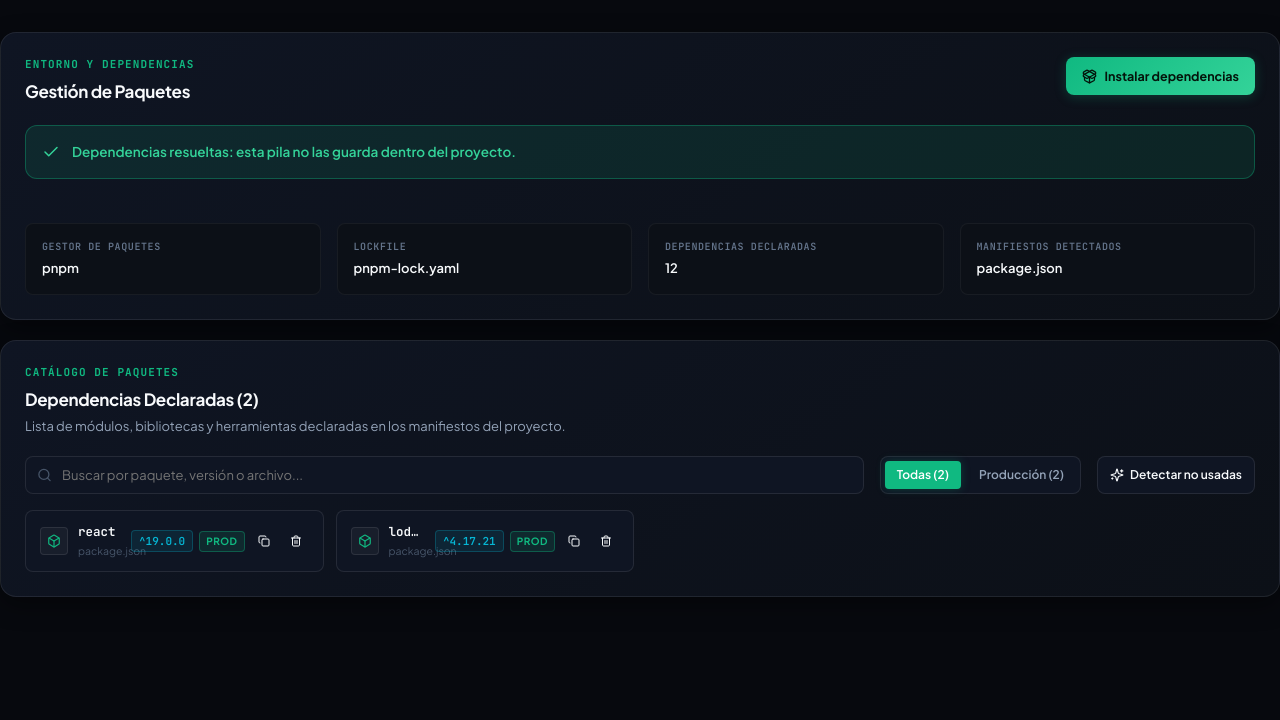
Scenario: DependenciesTab: detección y eliminación de dependencias huérfanas › detecta dependencias sin uso al pulsar el botón de auditoría
Click the button "Detectar no usadas" at (1176, 475), box [1097,456,1255,494]
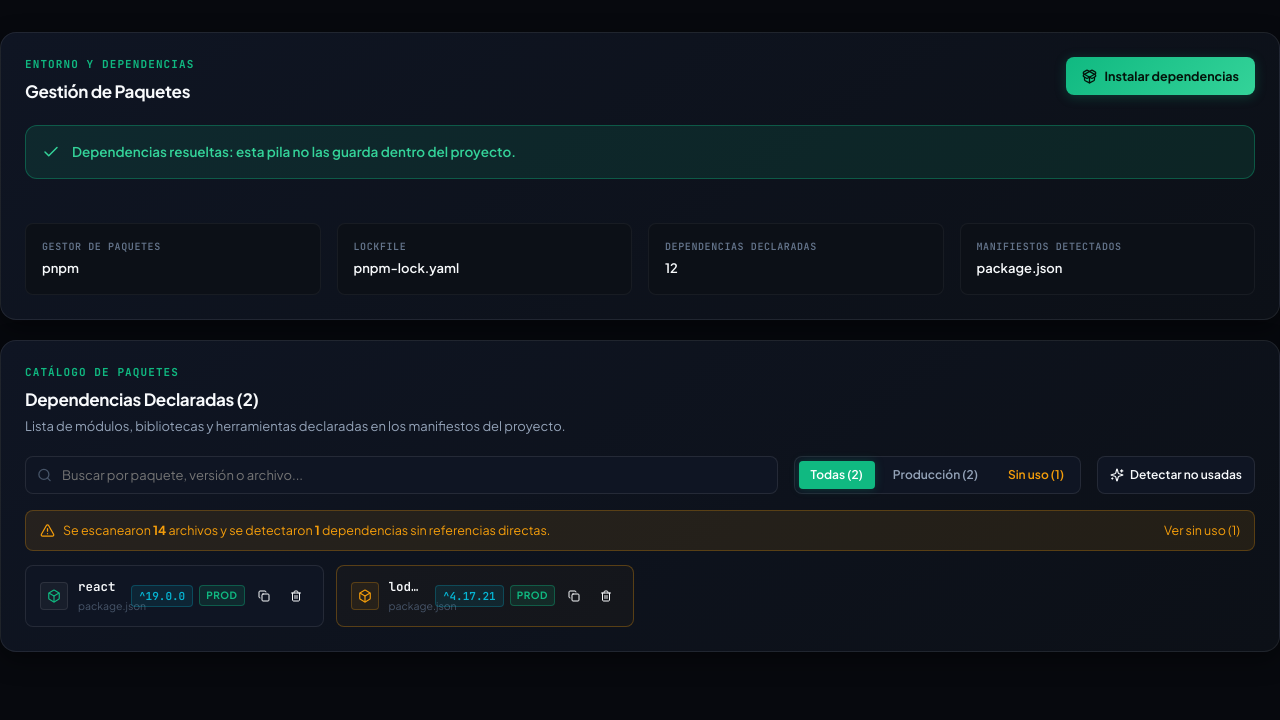
Result: the text "dependencias sin referencias directas" is shown at [320,522,550,538]
Result: the button "Sin uso (1)" is shown
Filter by unused
Click the button "Sin uso (1)" at (1036, 475), box [996,461,1076,489]
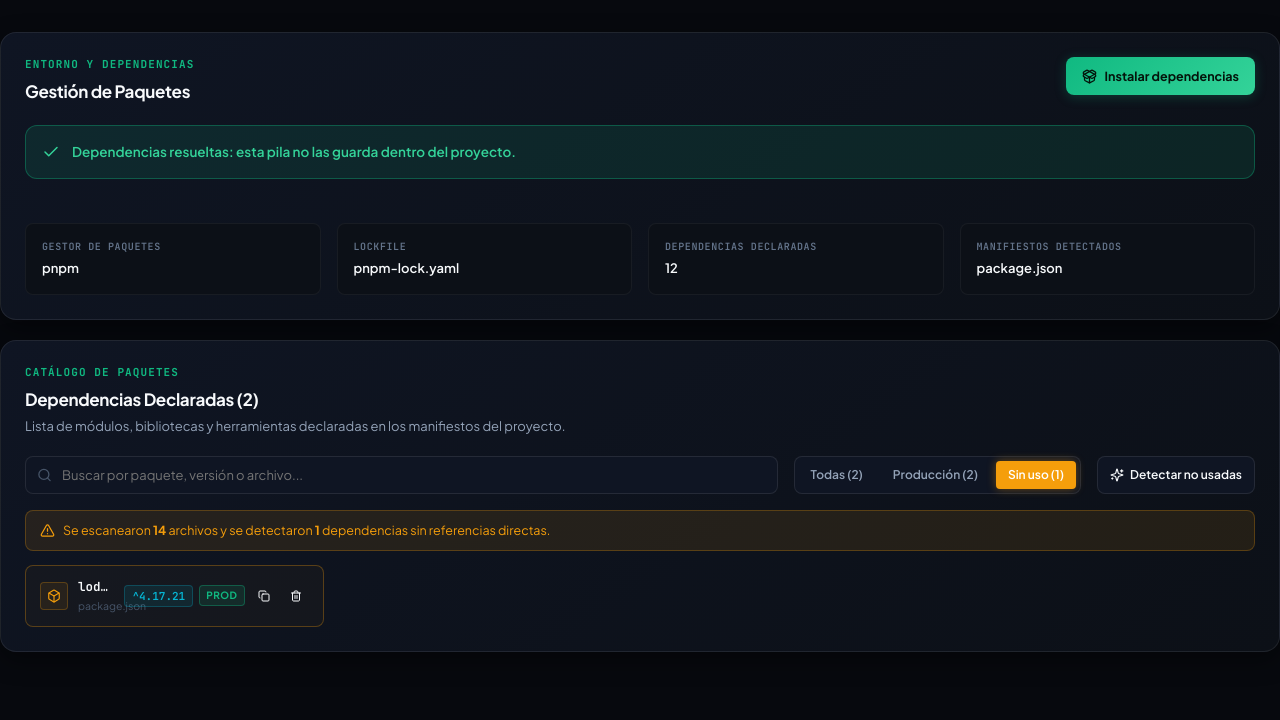
Expected: the text "lodash" is shown, [78,578,112,597]
Result: the button "react" is gone
